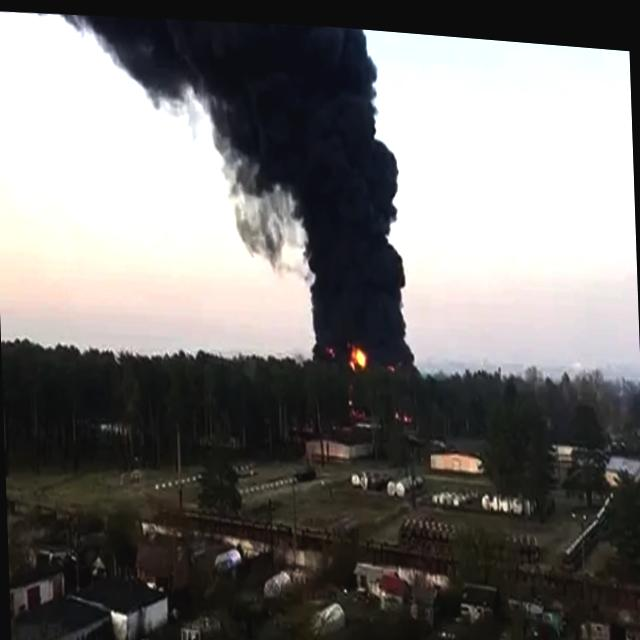no_helmet: (210, 13, 414, 369)
